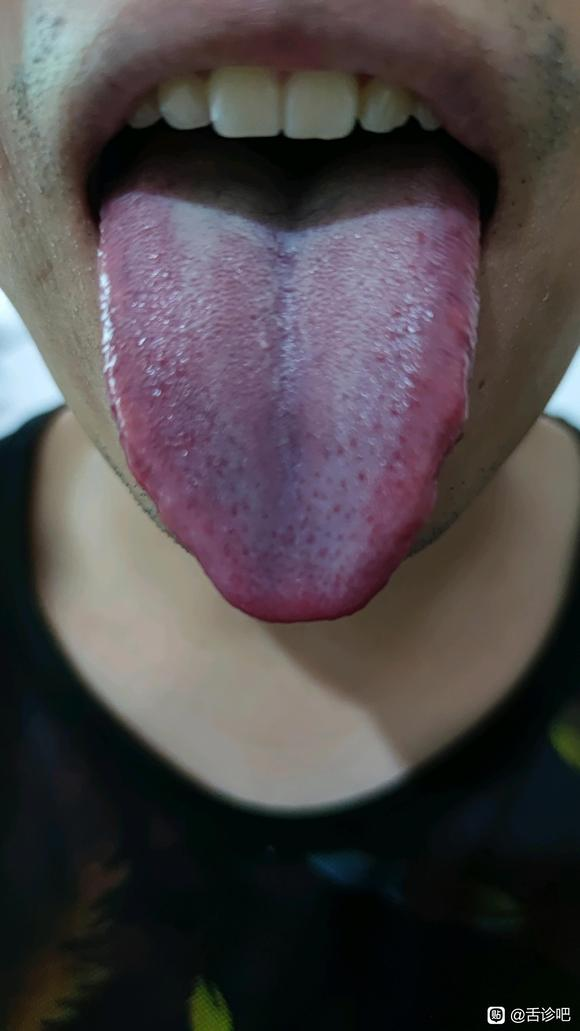baitaishe: (98, 115, 481, 623)
hongdianshe: (352, 466, 369, 486), (329, 500, 342, 516)
hongshe: (98, 115, 481, 623)
